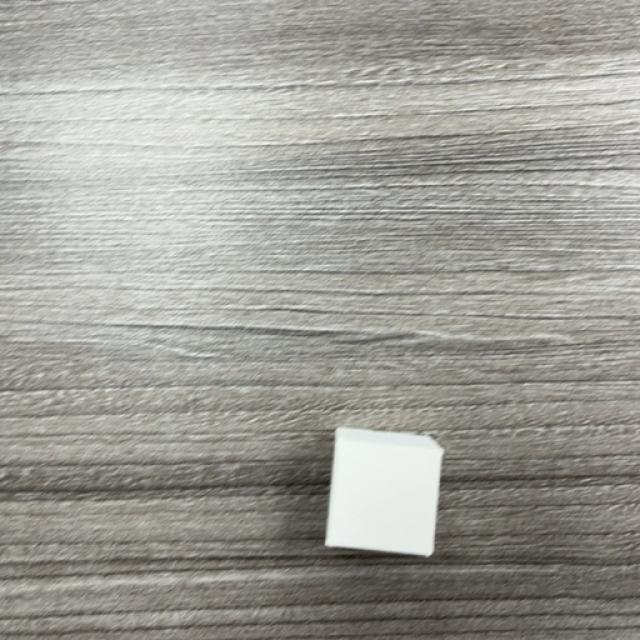Blanco: (322, 428, 445, 560)
